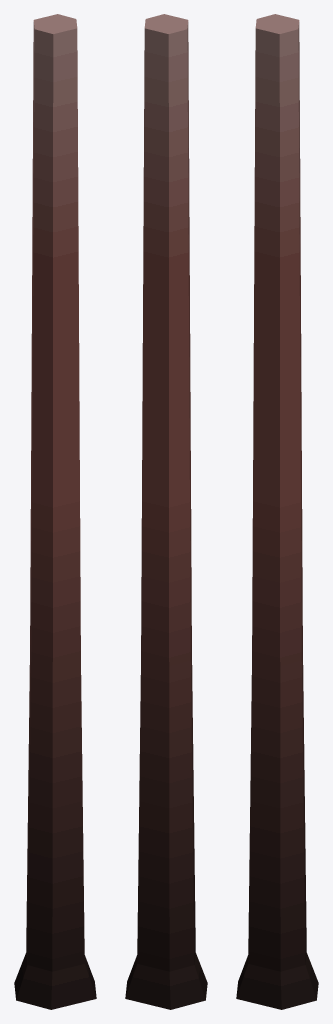
Rendered from sm_treetrunk1.glb.
3 renders of one model, left to right at view 1: azimuth 30°, elevation 25°; view 2: azimuth 150°, elevation 25°; view 3: azimuth 330°, elevation 25°, orthographic.
Visible parts, largest first — view 1: TallTreeTrunk-convcol; view 2: TallTreeTrunk-convcol; view 3: TallTreeTrunk-convcol.
Part boxes in pixels (x1,y1,x2,y2): TallTreeTrunk-convcol: (14, 14, 96, 1009); TallTreeTrunk-convcol: (125, 14, 207, 1009); TallTreeTrunk-convcol: (236, 14, 318, 1009).
Bounding box in the file's own units: 3.48 × 40.84 × 2.82.
1 material, 1 textured.
